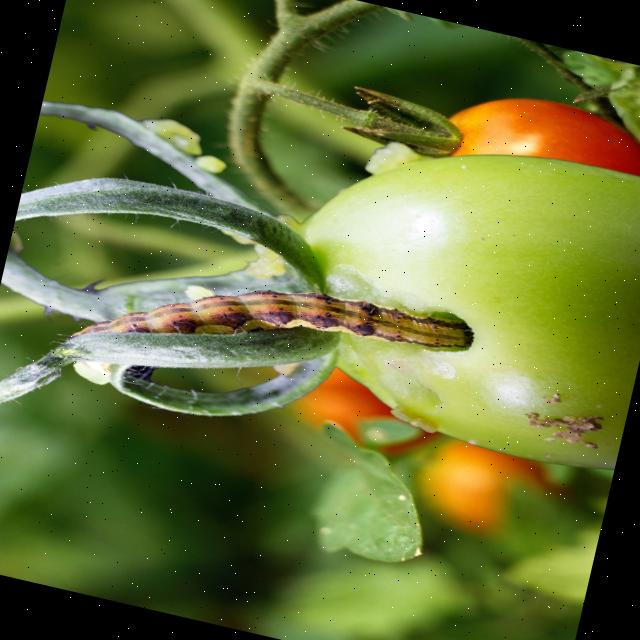worm: (72, 218, 488, 444)
